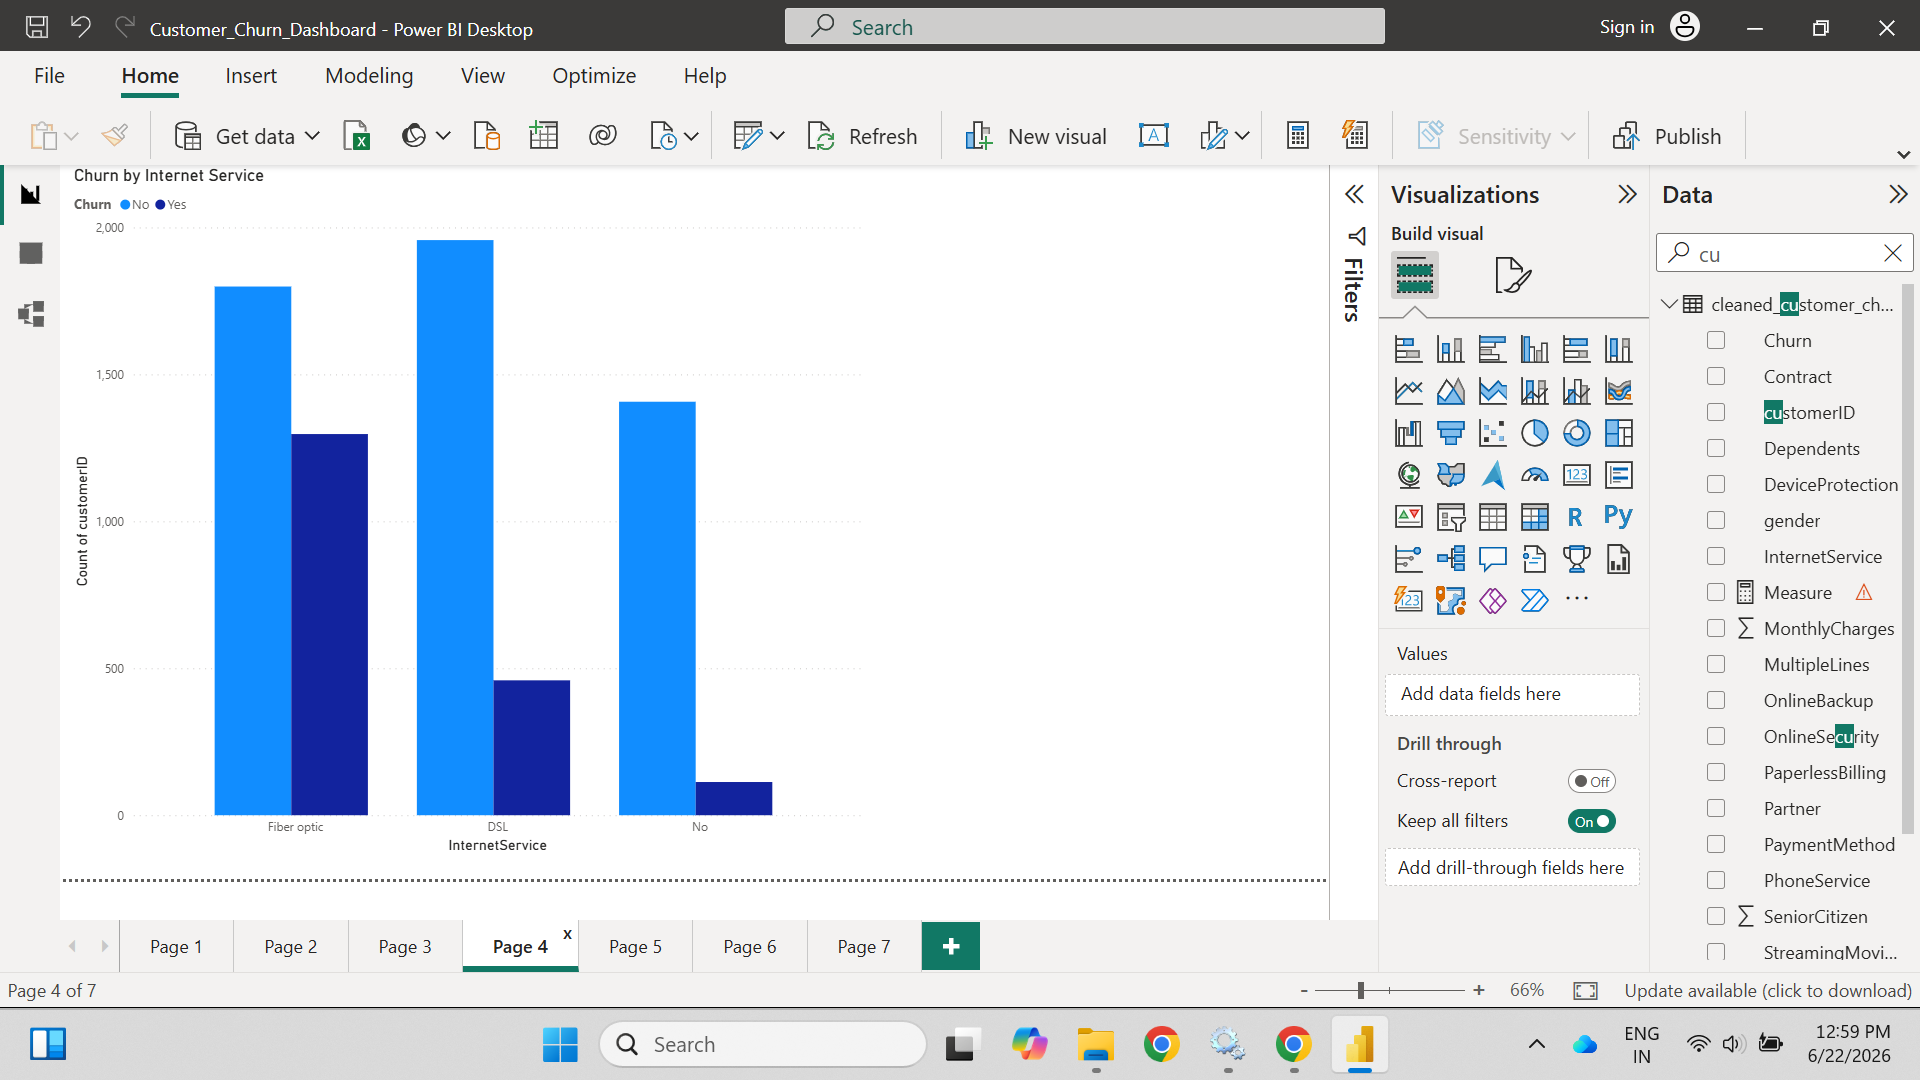

Layout of this report page (visuals, bound fields, positions):
{"tool":"powerbi","page":{"name":"Page 4","canvas":[1280,720],"ordinal":3},"visuals":[{"type":"clusteredColumnChart","title":"Churn by Internet Service","fields":{"Category":["cleaned_customer_churn.InternetService"],"Y":["CountNonNull(cleaned_customer_churn.customerID)"],"Series":["cleaned_customer_churn.Churn"]},"box":[9.4,0,804.2,698.5],"z":0}]}

Visuals, with their boxes on the page's 1280x720 design canvas (x1, y1, x2, y2). These are canvas units, not pixel positions in the 1920x1080 screenshot, which may show the page scaled, cropped or inside an application window:
"Churn by Internet Service" clusteredColumnChart: left=9, top=0, right=814, bottom=698
